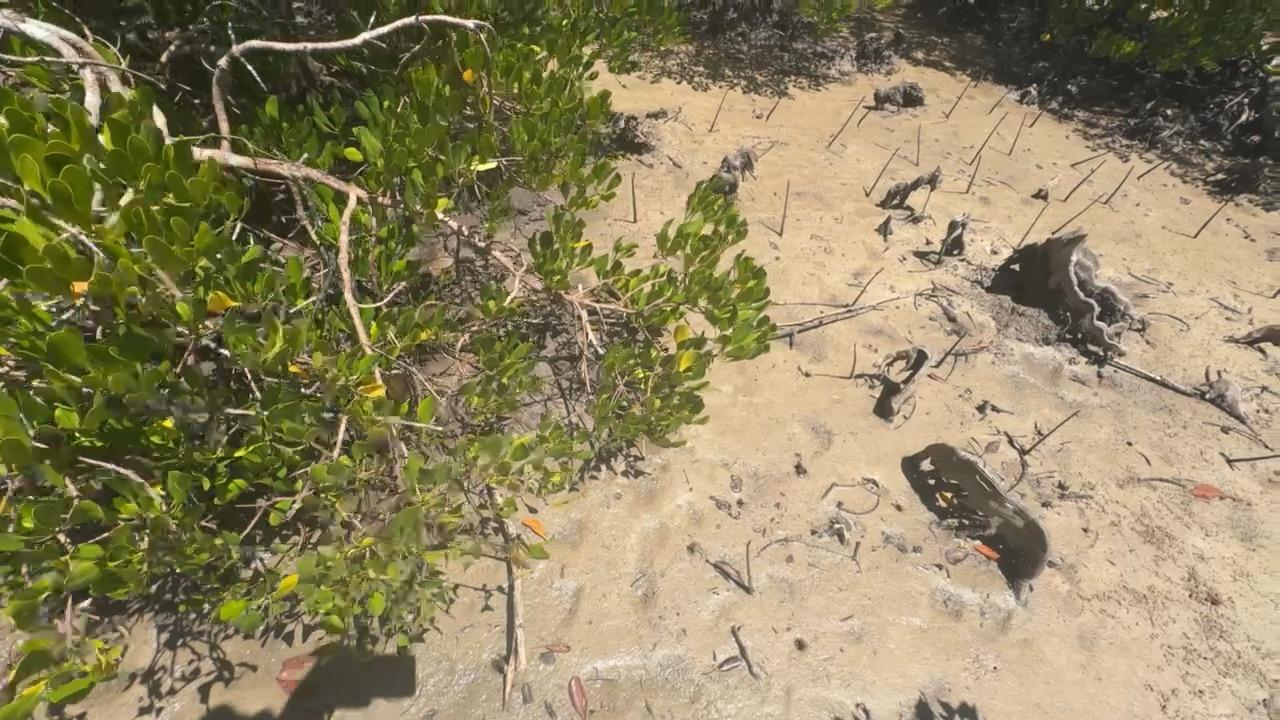Tree: (1024, 409, 1082, 457), (1052, 193, 1104, 234), (969, 112, 1008, 165), (829, 95, 866, 148), (1136, 145, 1189, 180), (1064, 159, 1107, 201), (1193, 195, 1232, 238), (866, 147, 899, 195), (1017, 203, 1050, 246), (851, 266, 885, 307), (1104, 165, 1133, 204), (937, 332, 967, 368), (946, 78, 972, 118), (1070, 147, 1115, 166), (1029, 97, 1053, 130), (1009, 113, 1027, 156), (710, 90, 728, 132), (779, 180, 790, 237), (966, 156, 982, 194), (989, 89, 1011, 114), (745, 540, 755, 593), (1226, 454, 1280, 463), (630, 171, 637, 223), (767, 96, 781, 120), (850, 341, 858, 378), (857, 108, 870, 126), (916, 125, 921, 166), (974, 70, 982, 87)
